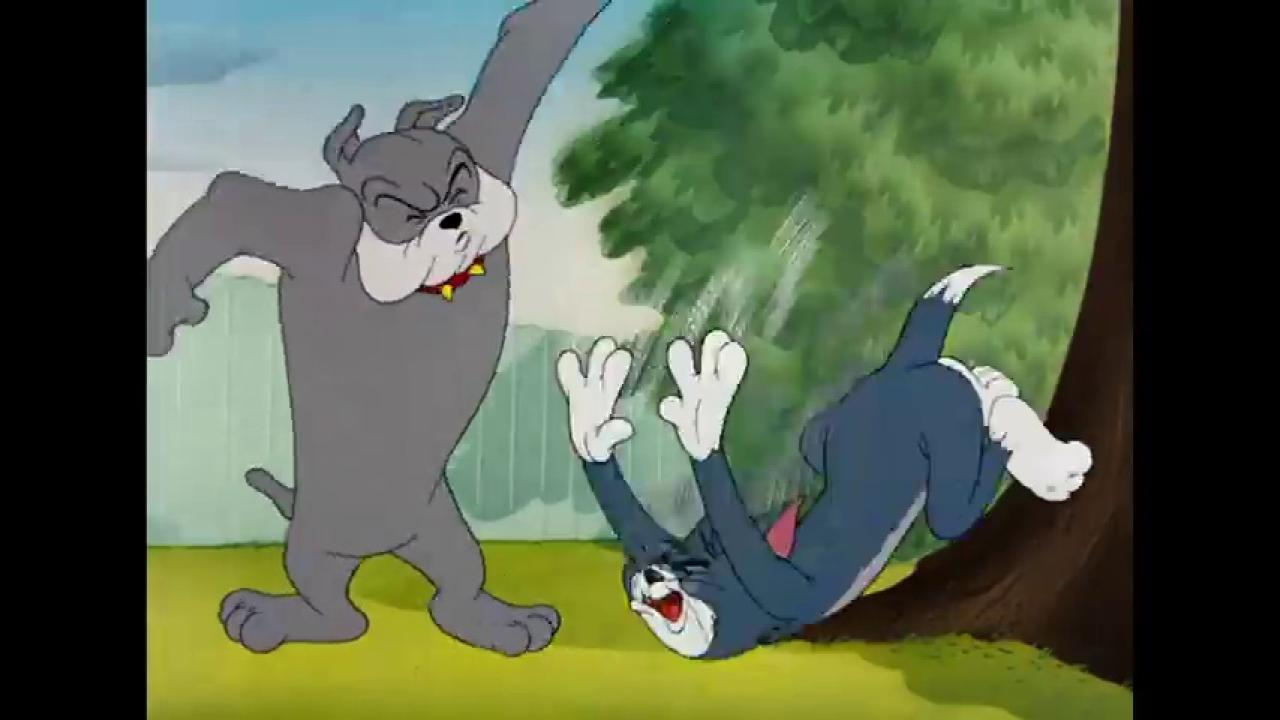Tom: (553, 263, 1095, 662)
